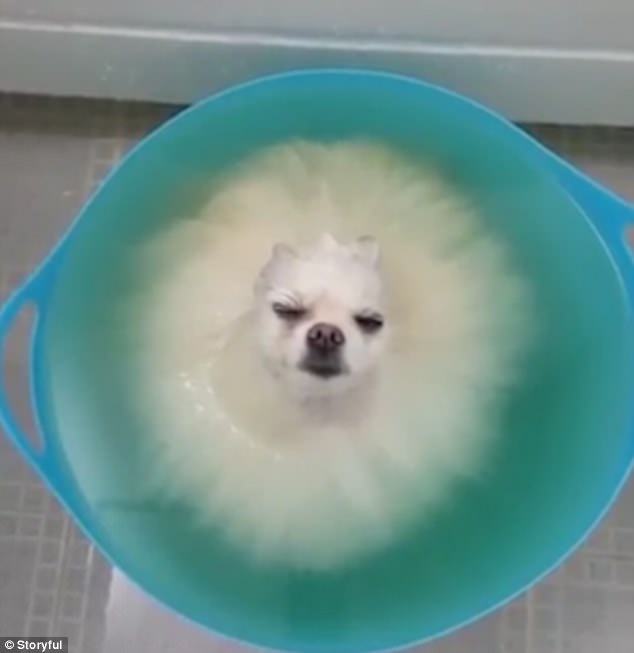pomeranian: (143, 117, 567, 569)
